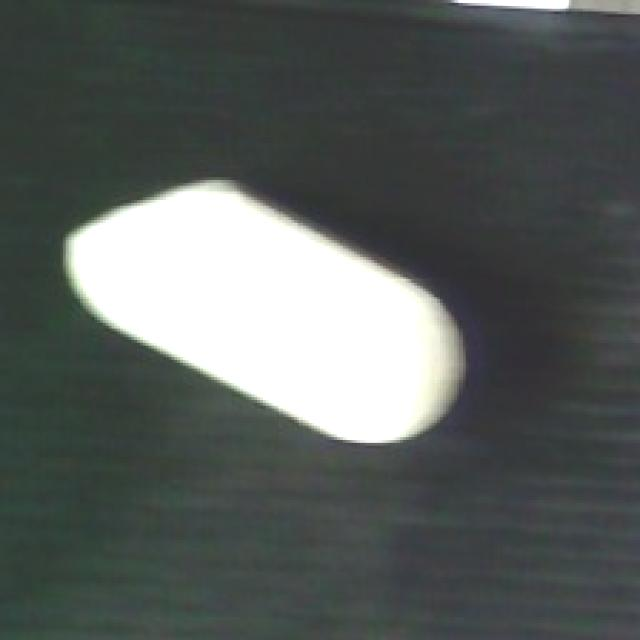defected: (60, 180, 469, 460)
